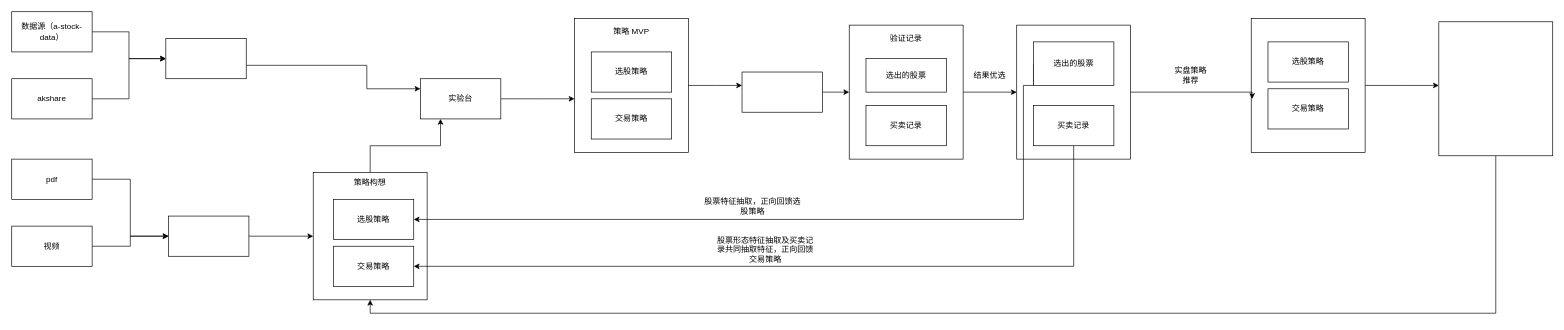
The diagram is 1564 pixels wide and 330 high, and some of its shapes have lost their labels. Each missing label, with the box of its shape:
实盘，挣钱: (1438, 21, 1553, 156)
数据: (165, 38, 246, 79)
知识库: (168, 215, 249, 256)
策略验证: (741, 71, 822, 112)
